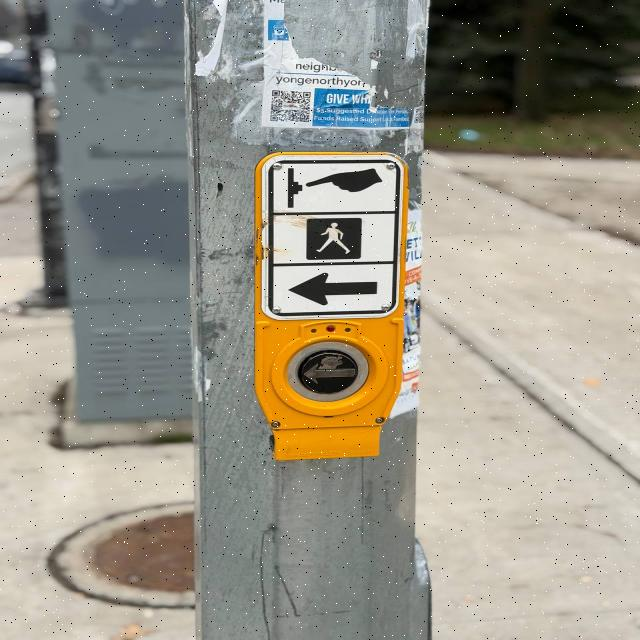Electrical Pole: (175, 0, 439, 640)
